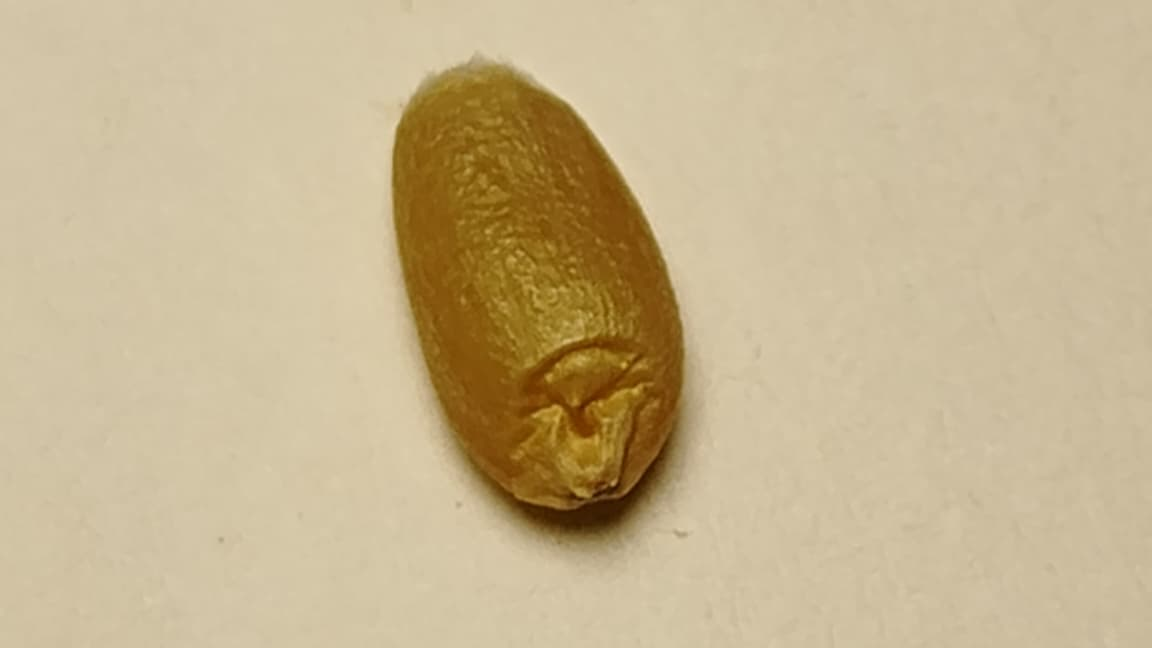healthy: (394, 62, 681, 507)
